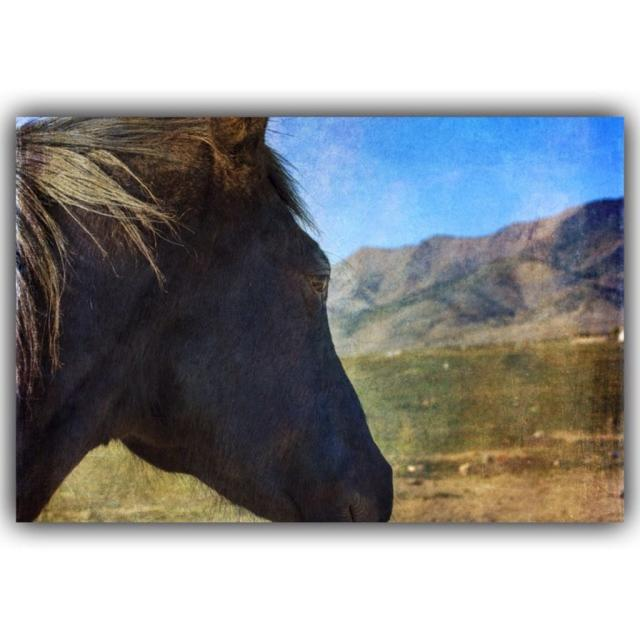Horse: (17, 115, 395, 525)
